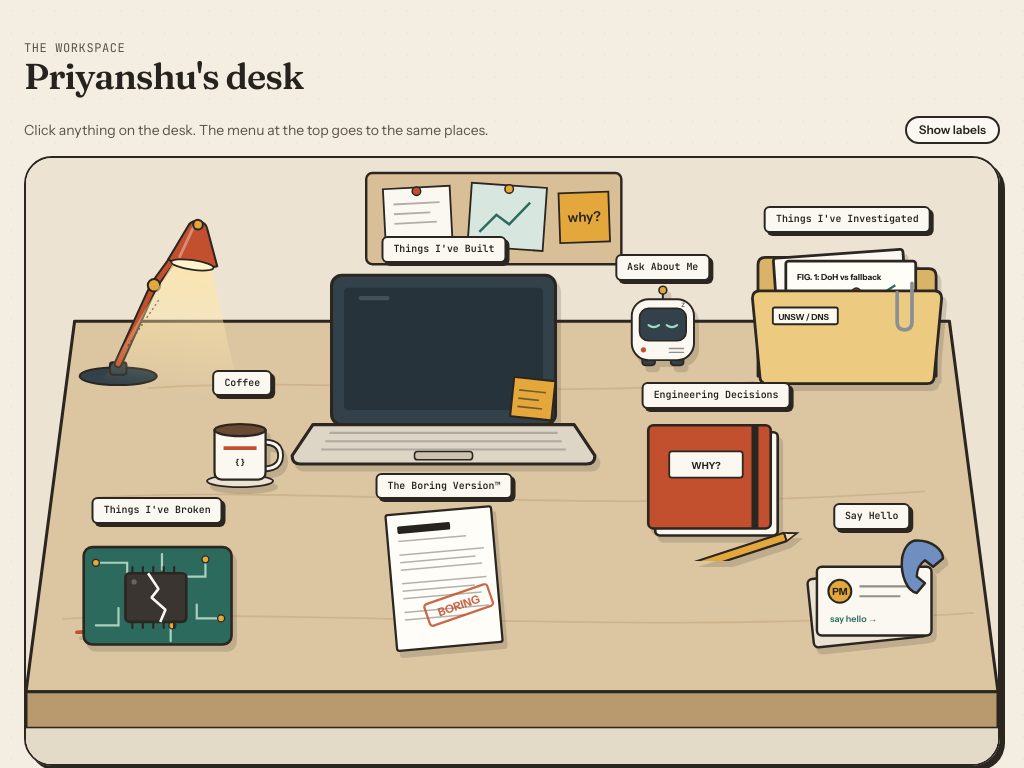
Test case: how PAI works › is reachable from the assistant panel
Click the button "Ask About Me z". click: {"x": 663, "y": 328}
box: [624,285,702,371]
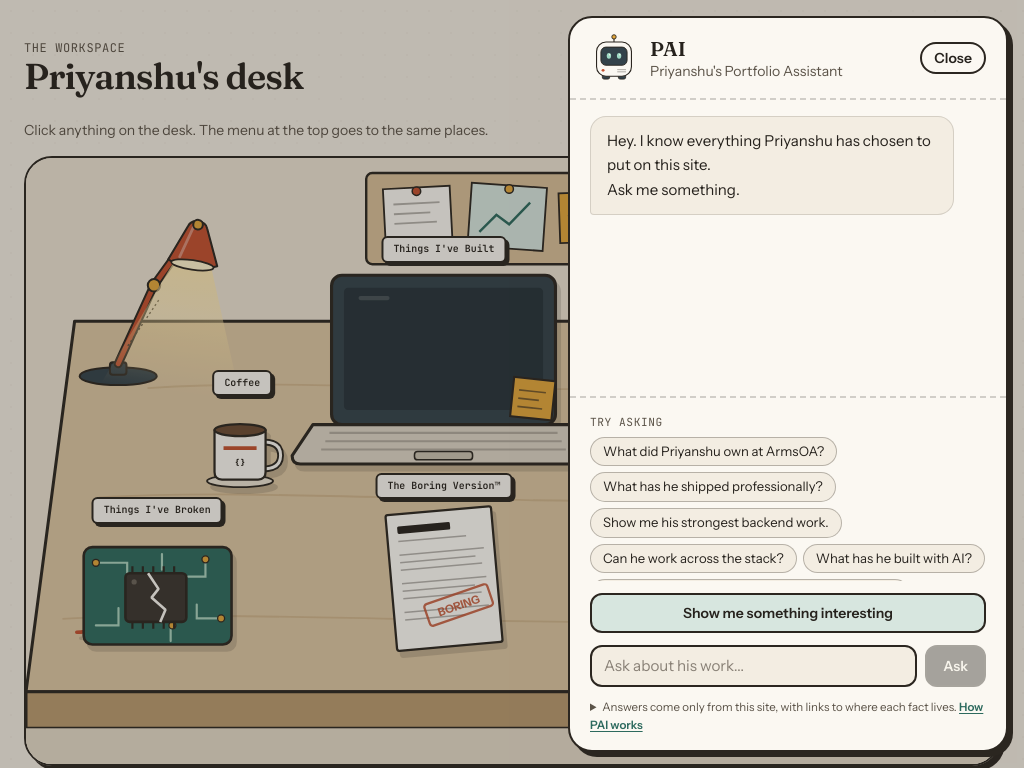
Click the text "How PAI works". click: {"x": 971, "y": 707}
box: [590,700,983,732]
(page scrolled)
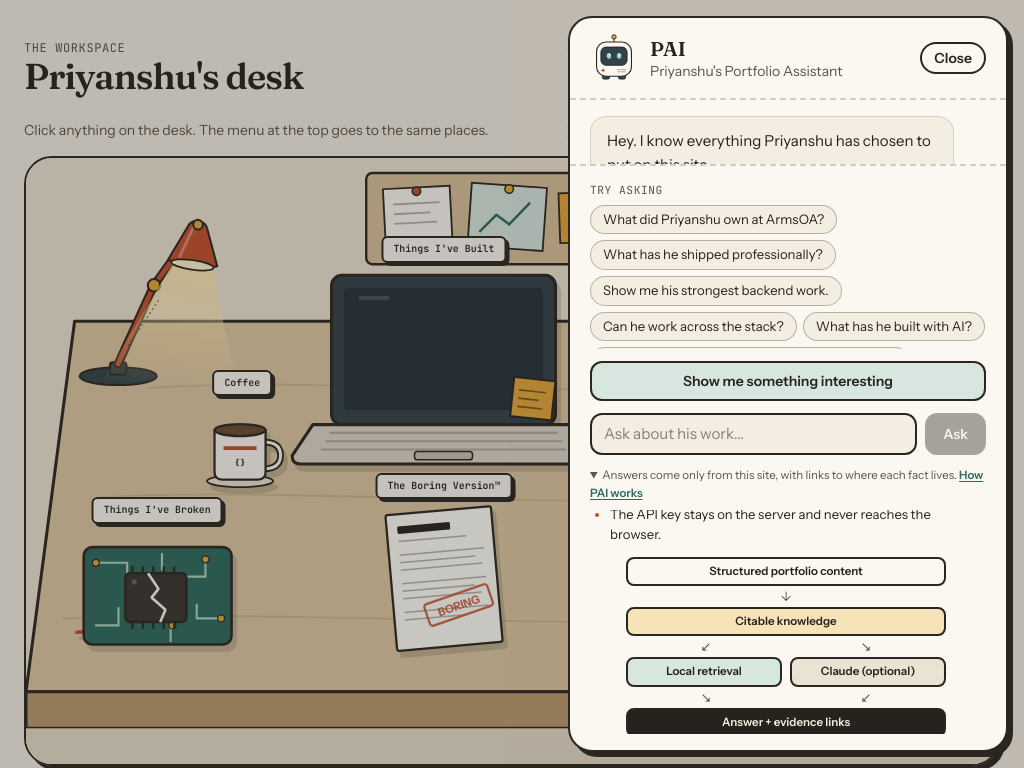
Now the list item "never reaches the browser" is shown, box [610,510,931,542]
Now the text "Citable knowledge" is shown, box [626,607,946,636]
